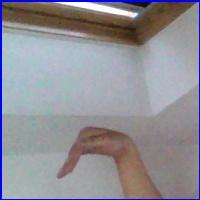del: (55, 124, 139, 185)
